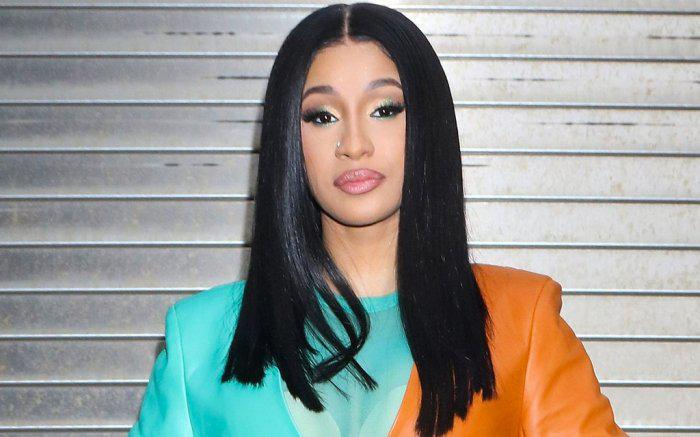Sober: (299, 53, 409, 208)
